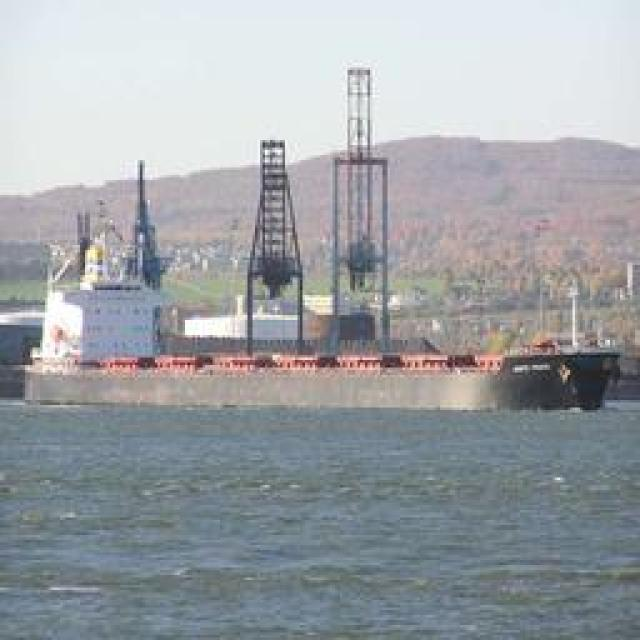CIV_Ship: (32, 325, 620, 410)
